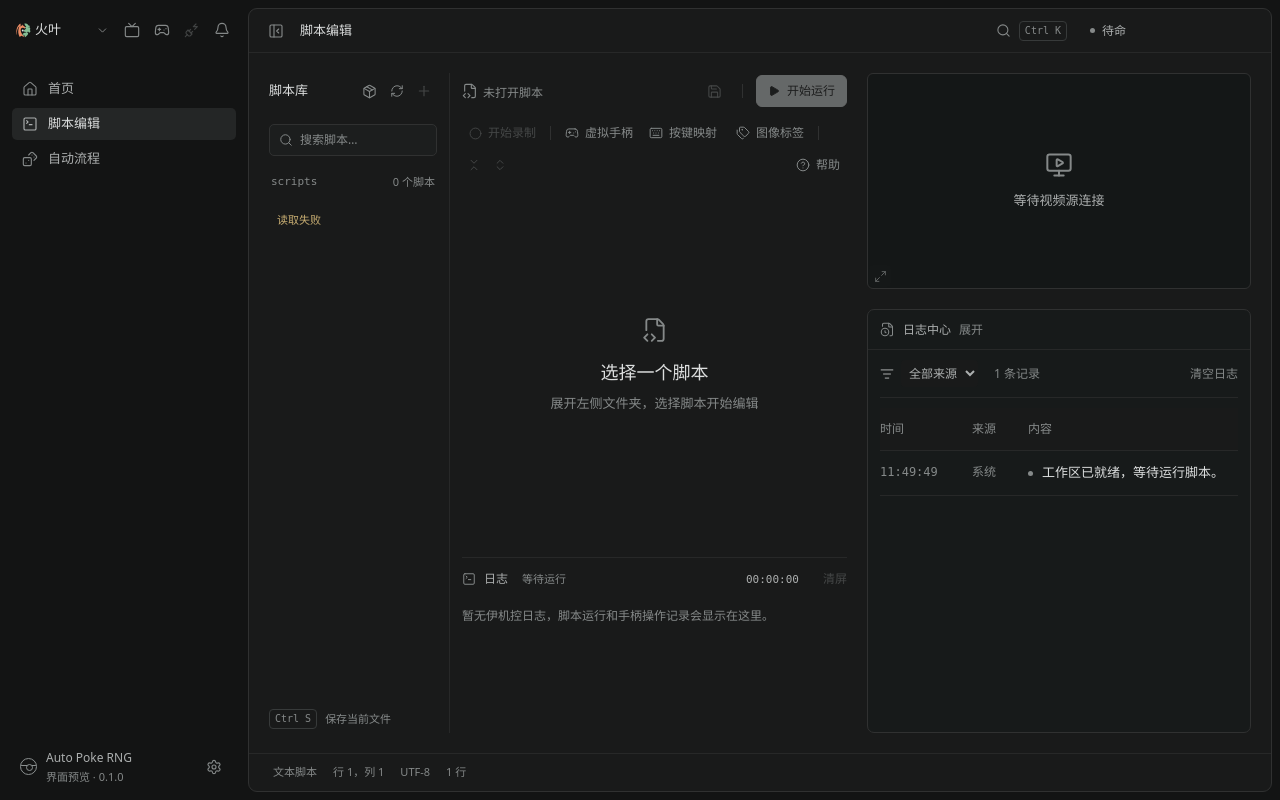
project script folders › shows empty folders and a recoverable read failure without inventing scripts
Expected: the message "读取失败" is shown, [277,212,321,226]
Expected: the button "开始运行" is disabled, [756,75,847,107]
What coordinates should you click on to do the following:
click the button named "刷新脚本库"
I would click on:
 (396, 91)
Its box is [383,78,410,104].
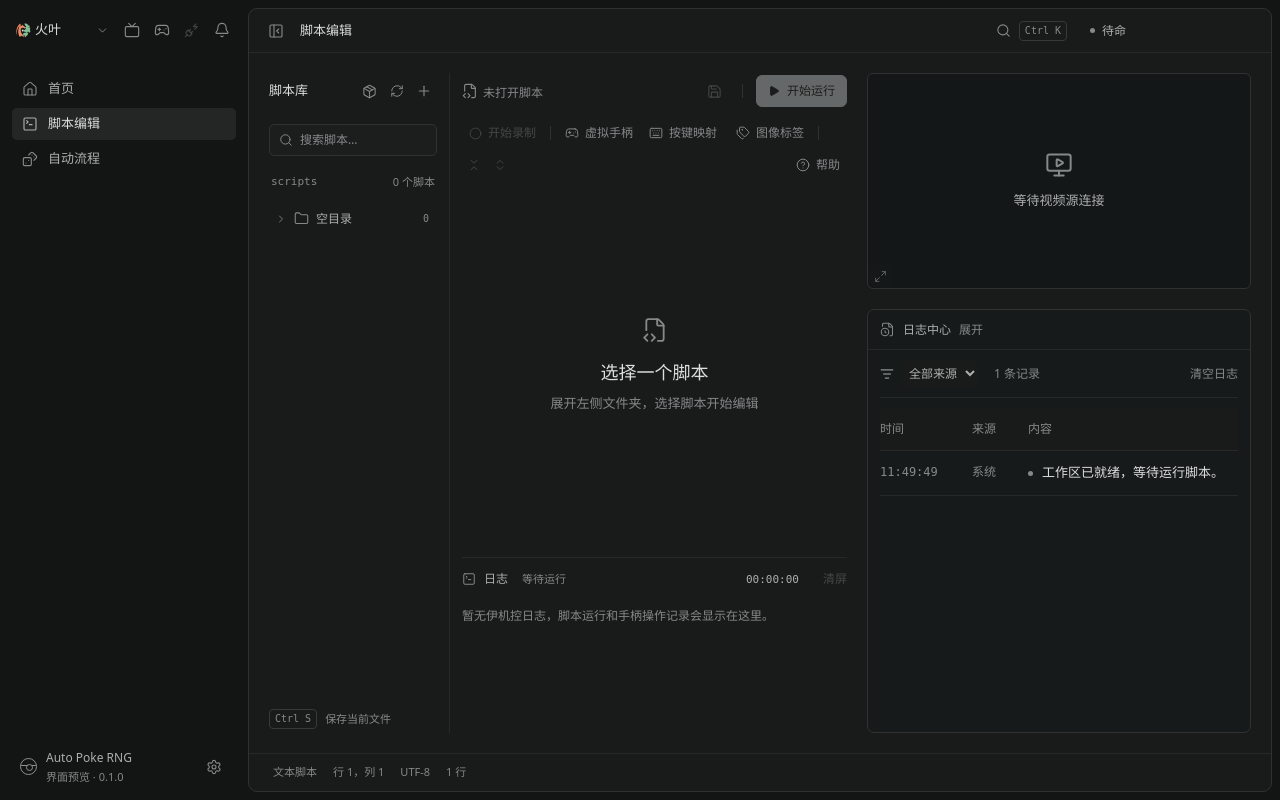
What coordinates should you click on to do the following:
click the button with aria-label "文件夹：空目录"
I would click on:
 (353, 218)
Its box is [269,202,437,234].
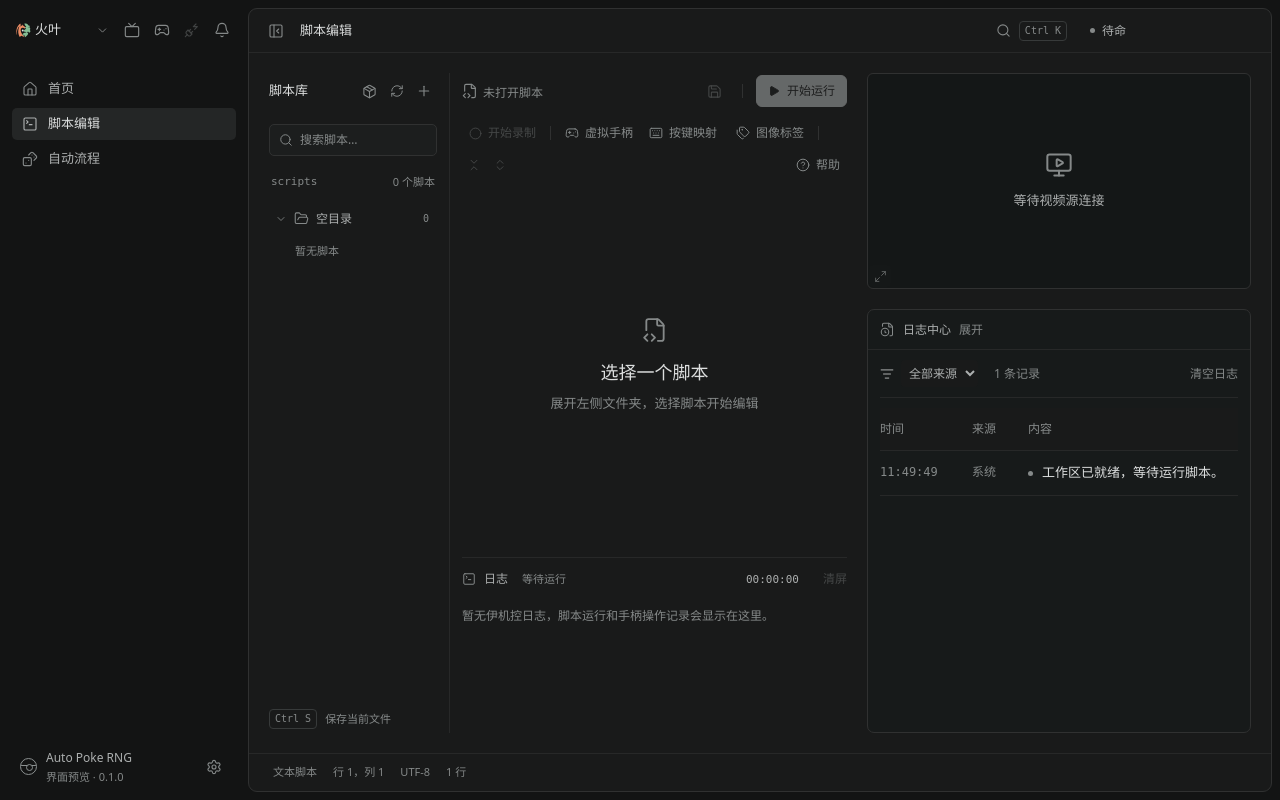
Expected: the message "读取失败" is not shown
Now the text "暂无脚本" is shown, box [295,242,339,258]
